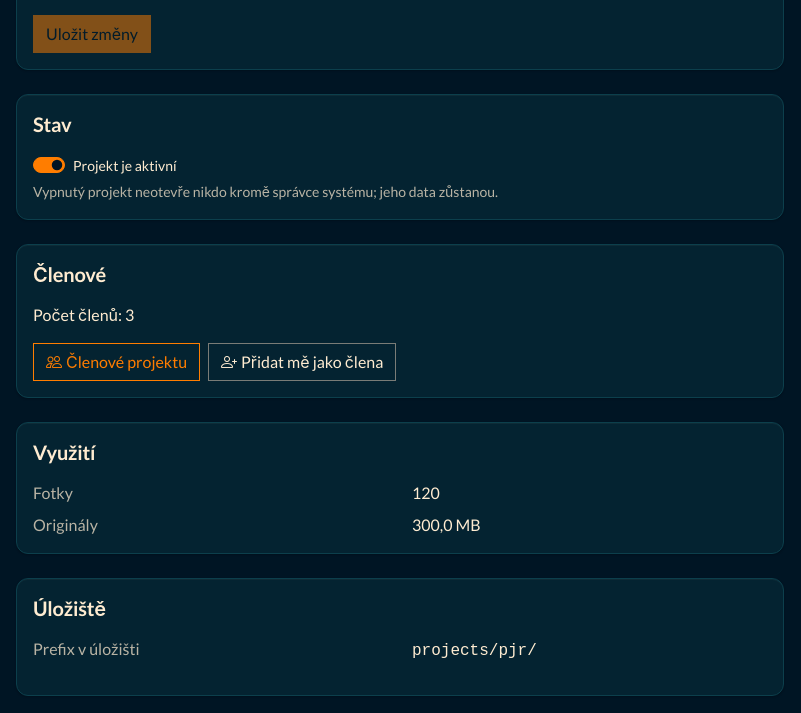
it: SystemProjectPage › adds the caller as an admin and then hides the button
This screenshot has width=801, height=713.
(page scrolled)
Click the button "Přidat mě jako člena": x=302, y=362 [208, 343, 396, 381]
(page scrolled)
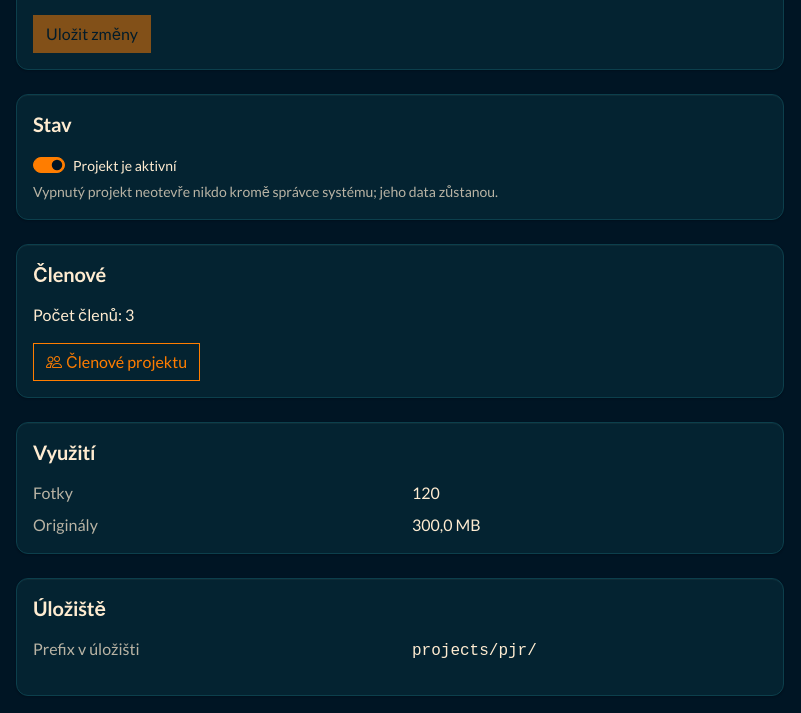
Now the button "Přidat mě jako člena" is gone
